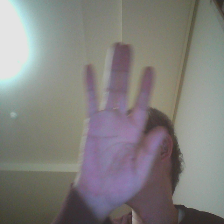hand: (79, 37, 167, 220)
